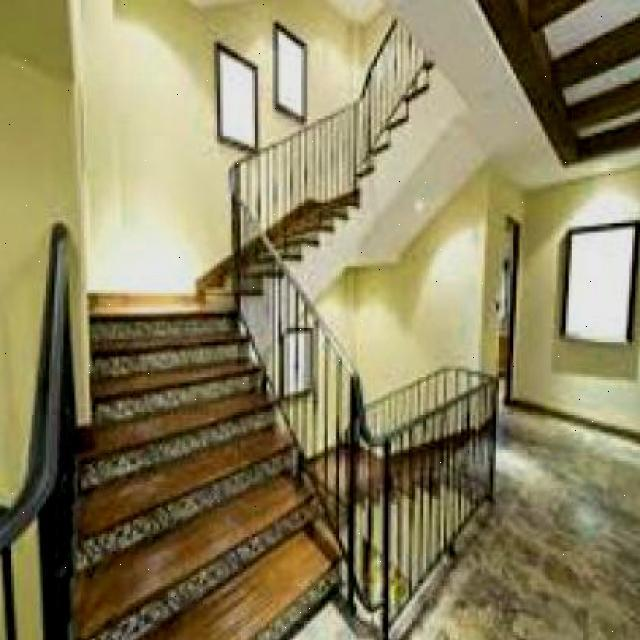stair: (73, 383, 339, 632)
